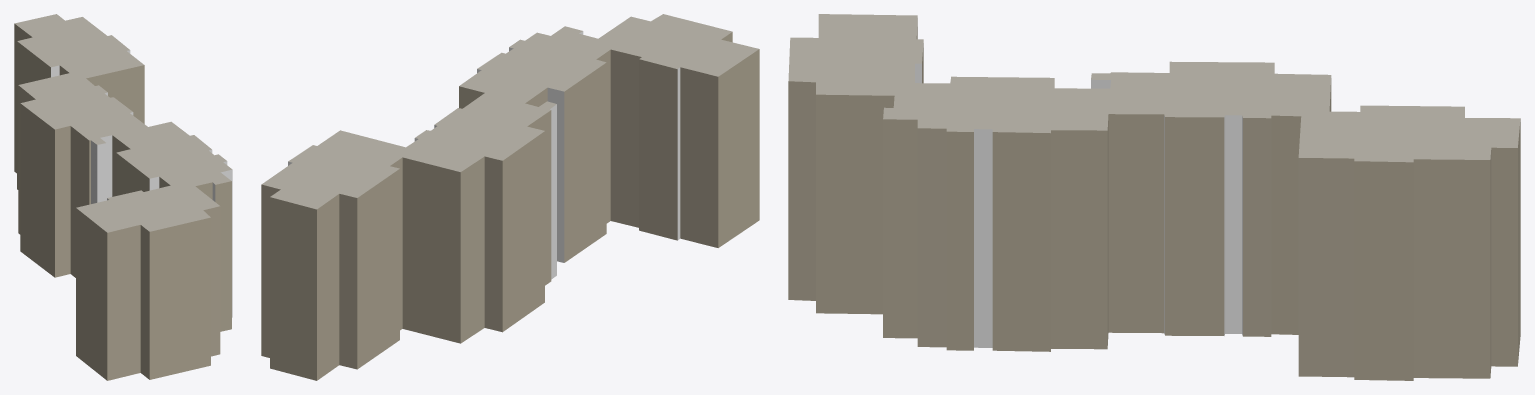
The picture shows the model from 3 angles, left to right: view 1: azimuth 30°, elevation 25°; view 2: azimuth 150°, elevation 25°; view 3: azimuth 270°, elevation 25°; orthographic projection. The views are drawn at different scales.
Visible parts, largest first — view 1: tuile; view 2: tuile; view 3: tuile.
Part boxes in pixels (left/top/right/bottom): tuile: left=14, top=14, right=232, bottom=380; tuile: left=261, top=14, right=759, bottom=380; tuile: left=788, top=14, right=1520, bottom=380.
Size of the model in its own units: 39.7 by 27.29 by 82.8.
